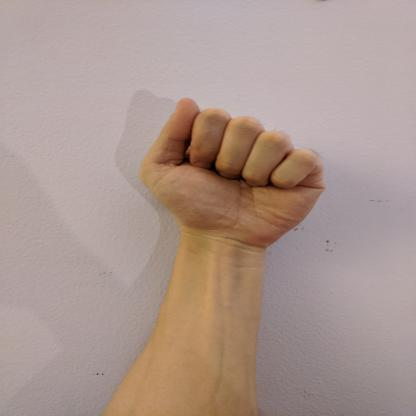A: (132, 92, 334, 254)
